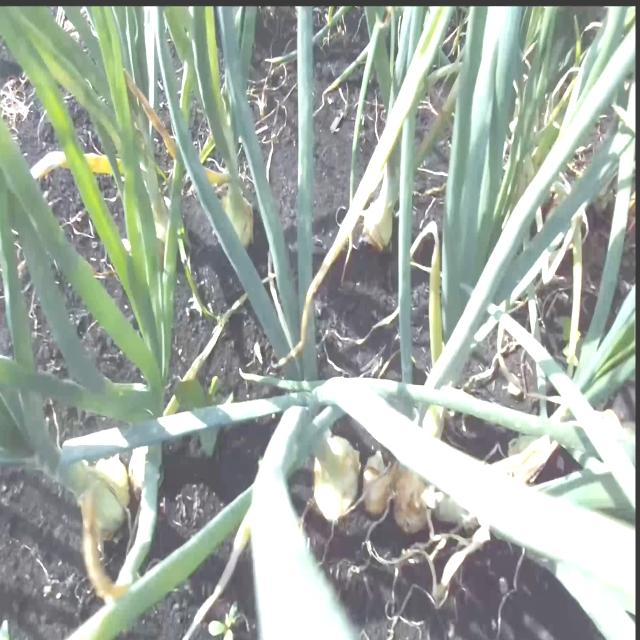onion: (312, 438, 356, 519), (82, 467, 126, 537), (397, 462, 435, 532), (217, 192, 257, 256), (130, 450, 162, 502), (362, 459, 388, 518), (367, 200, 395, 253)
